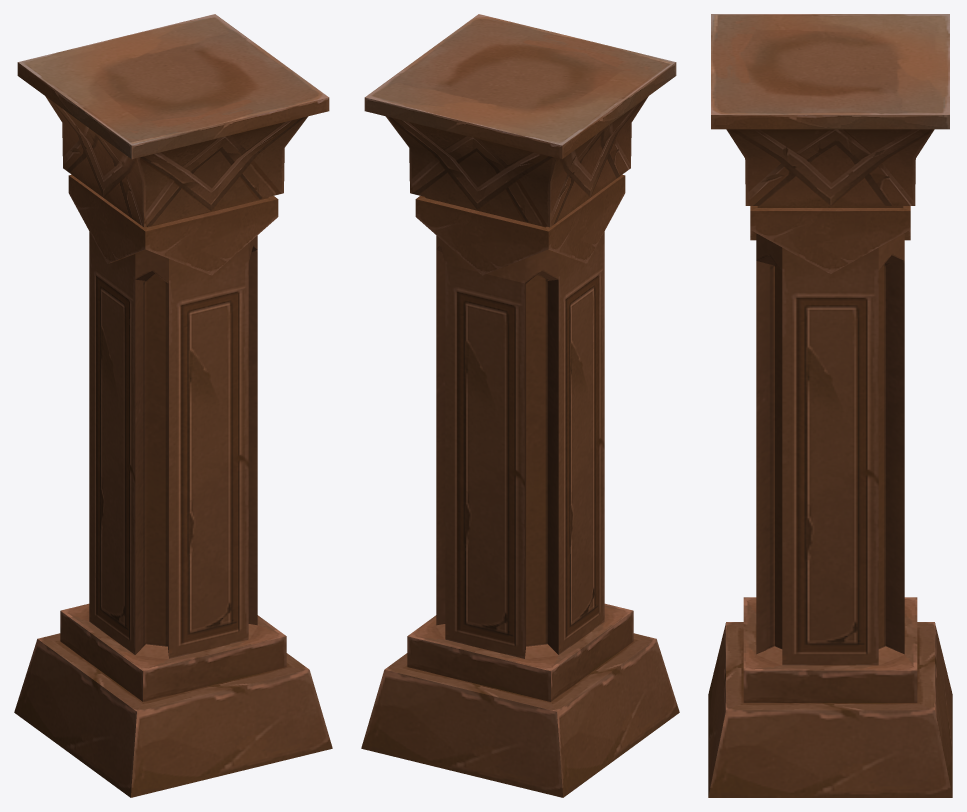
The model's file is guchengqishituan_wujian_25.FBX.
3 views of the same model, side by side, from view 1: azimuth 30°, elevation 25°; view 2: azimuth 150°, elevation 25°; view 3: azimuth 270°, elevation 25° (orthographic). The views are drawn at different scales.
Visible parts, largest first — view 1: GCQST_wujian_25; view 2: GCQST_wujian_25; view 3: GCQST_wujian_25.
Boxes of the visible parts, bbox=[...] form: GCQST_wujian_25: bbox=[14, 14, 332, 797]; GCQST_wujian_25: bbox=[361, 14, 679, 797]; GCQST_wujian_25: bbox=[708, 14, 952, 797].
Size of the model in its own units: 1.54 by 4.74 by 1.54.
